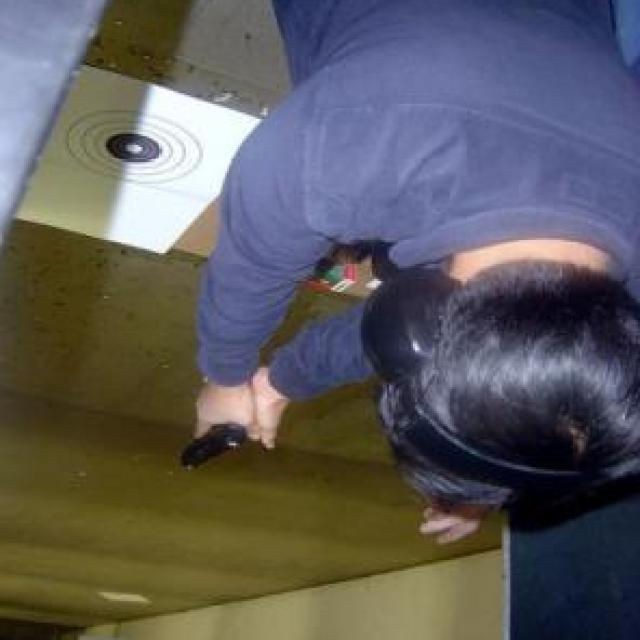pistol: (178, 418, 246, 472)
